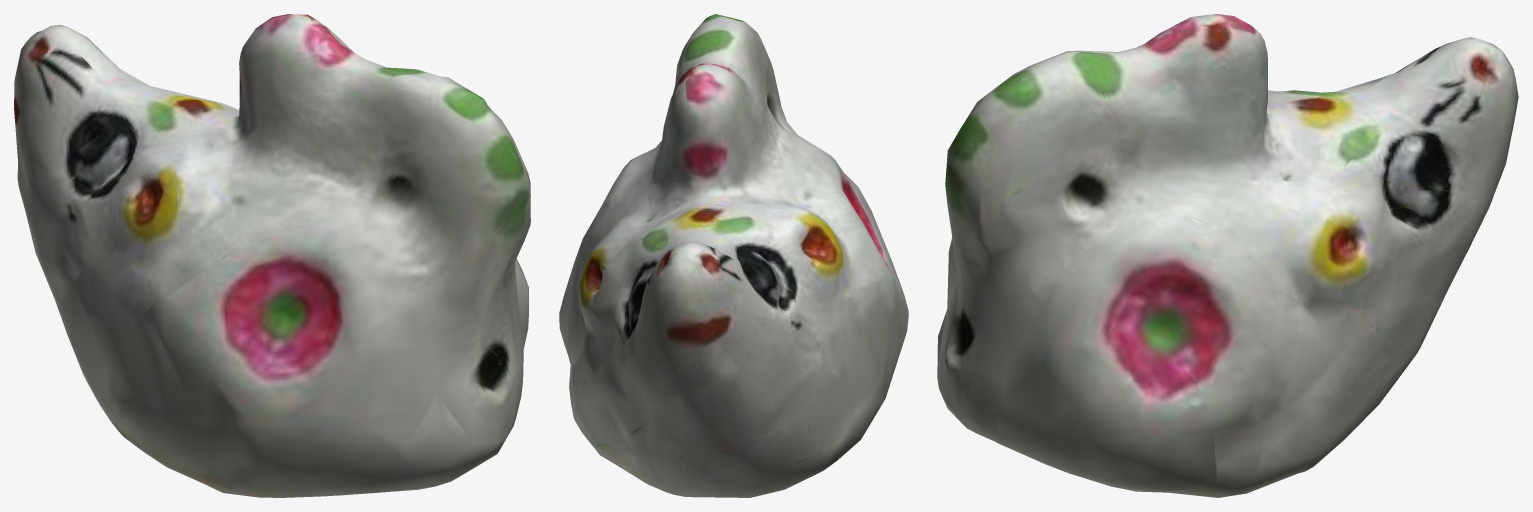
The model's file is hall.glb.
3 renders of one model, left to right at view 1: azimuth 30°, elevation 25°; view 2: azimuth 150°, elevation 25°; view 3: azimuth 270°, elevation 25°, orthographic. The views are drawn at different scales.
Size of the model in its own units: 0.2882 by 0.337 by 0.4081.
1 material, 1 textured.
